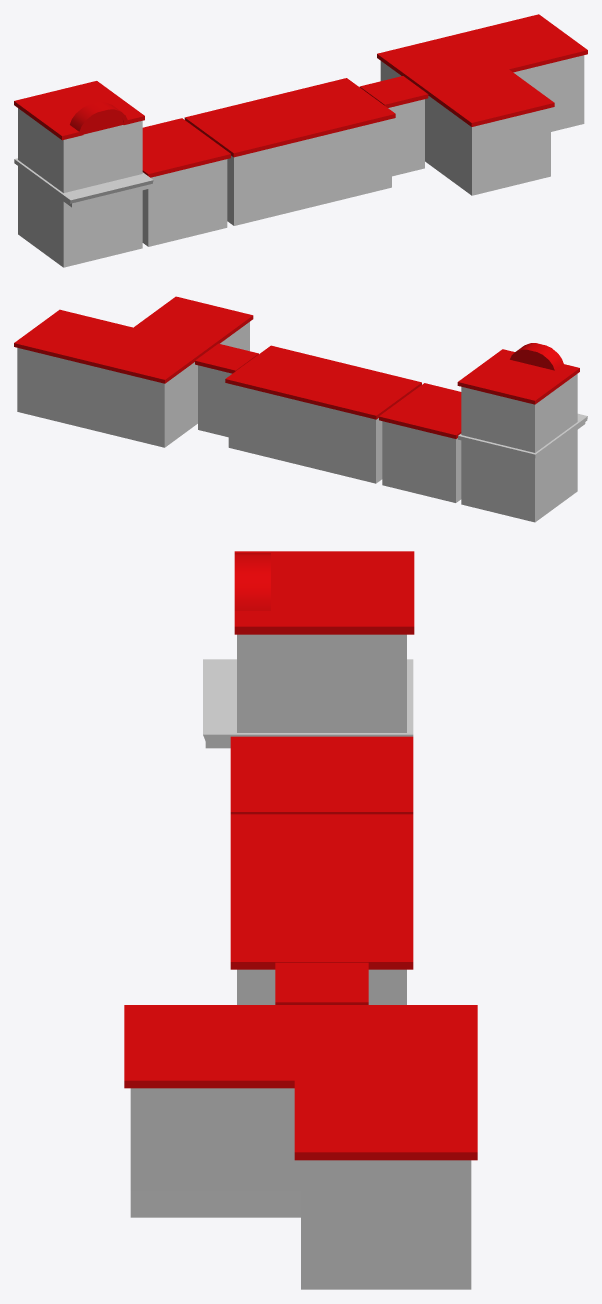
The model's file is Houses.fbx.
The picture shows the model from 3 angles, top to bottom: view 1: azimuth 30°, elevation 25°; view 2: azimuth 150°, elevation 25°; view 3: azimuth 270°, elevation 25°; orthographic projection. The views are drawn at different scales.
Visible parts, largest first — view 1: House5, House1, House3, House2, House4; view 2: House5, House1, House3, House2, House4; view 3: House5, House1, House3, House2, House4.
Part boxes in pixels (bbox=[...]): House5: bbox=[377, 14, 587, 195]; House1: bbox=[14, 81, 153, 267]; House3: bbox=[184, 78, 395, 225]; House2: bbox=[142, 118, 230, 246]; House4: bbox=[359, 76, 428, 176]; House5: bbox=[14, 296, 253, 447]; House1: bbox=[457, 343, 587, 522]; House3: bbox=[225, 345, 421, 483]; House2: bbox=[379, 383, 461, 502]; House4: bbox=[195, 343, 258, 437]; House5: bbox=[124, 1005, 477, 1289]; House1: bbox=[203, 551, 414, 748]; House3: bbox=[230, 814, 413, 1004]; House2: bbox=[230, 736, 413, 814]; House4: bbox=[275, 962, 368, 1004].
Bounding box in the file's own units: 3427 × 892 × 1037.
